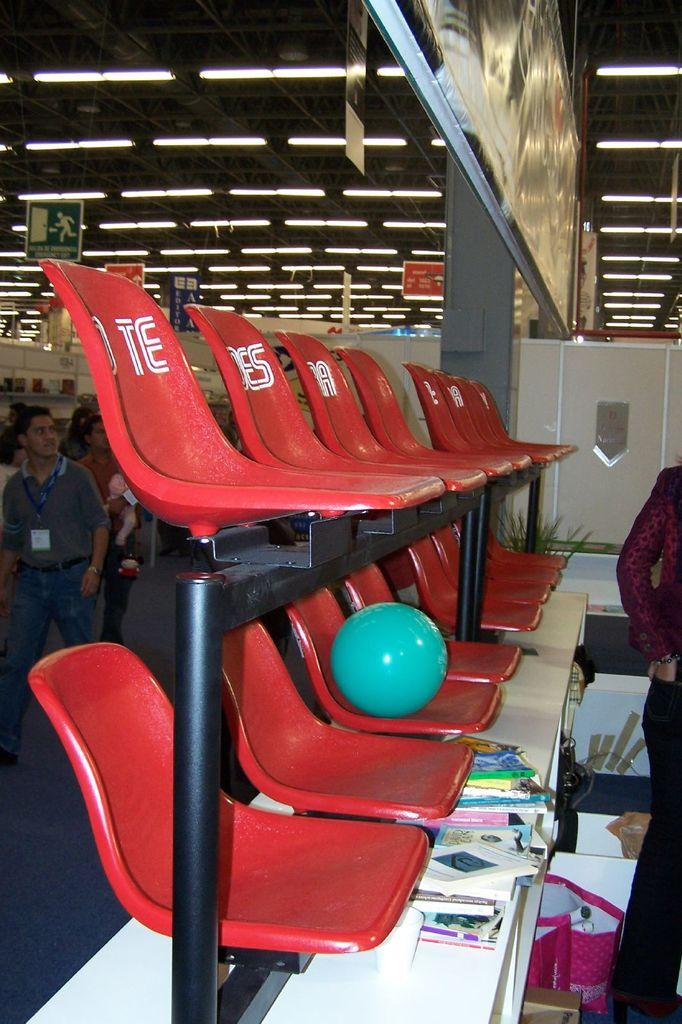Luggage-and-bags: (526, 870, 626, 1015)
